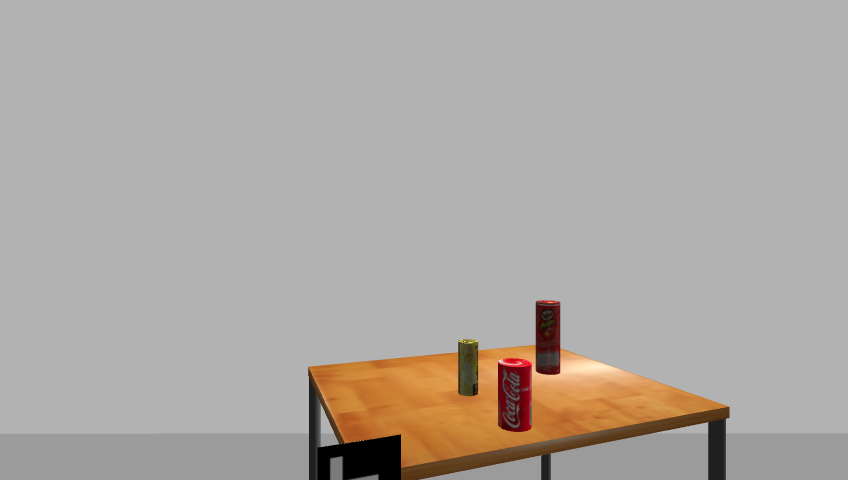aruco marker: (308, 434, 409, 480)
biscuits pack: (456, 338, 480, 398)
coke can: (495, 358, 533, 432)
dinner table: (295, 349, 738, 480)
pringles can: (533, 300, 563, 378)
